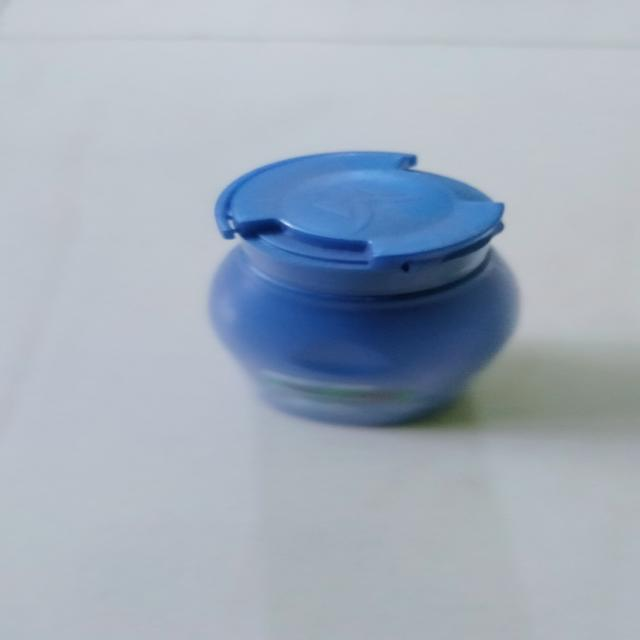oil: (213, 140, 531, 430)
